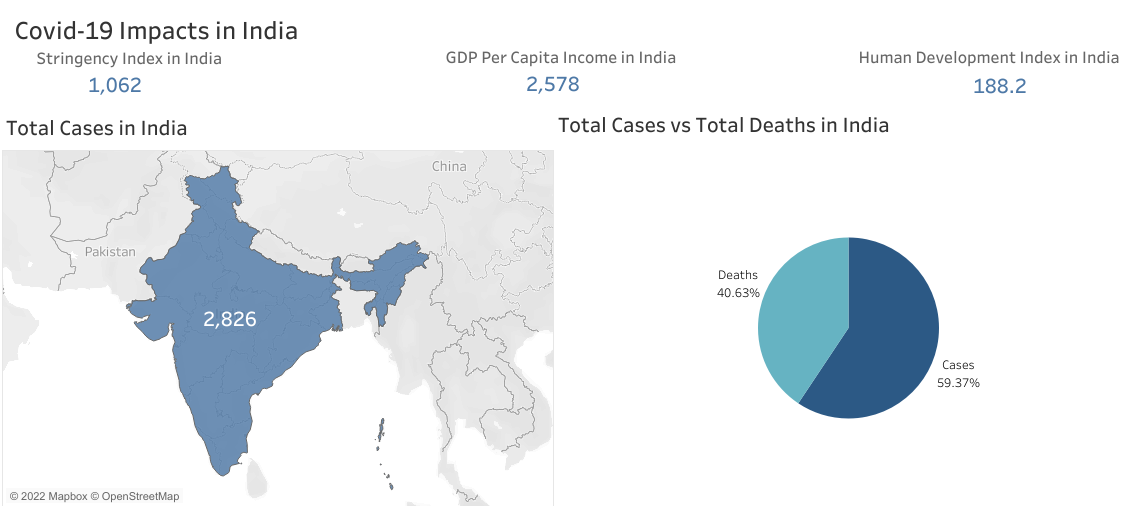

The dashboard page shown, as its layout file describes it:
{"tool":"tableau","page":{"name":"Covid-19 Impacts in India","canvas":[1000,1000],"units":"permille","ordinal":0},"visuals":[{"type":"title","box":[6.9,12.7,986.1,66.5]},{"type":"text","box":[387.4,77.5,211.4,66.5]},{"type":"text","box":[748.7,77.5,242.6,66.5]},{"type":"text","box":[29.5,79.1,182,66.5]},{"type":"worksheet","title":"GDP per Captita Income in India","mark":"Automatic","box":[441.1,136.1,81.5,47.5]},{"type":"worksheet","title":"Stringency Index in India","mark":"Automatic","box":[58.1,137.7,84.9,50.6]},{"type":"worksheet","title":"Human Development Index in India","mark":"Automatic","box":[831.9,139.2,88.4,44.3]},{"type":"worksheet","title":"Total Cases vs Total Deaths in India","mark":"Pie","box":[484.4,189.9,515.6,814.9]},{"type":"worksheet","title":"Total Cases in India","mark":"Multipolygon","box":[1.7,193,482.7,807]}]}

Visuals, with their boxes on the dashboard's canvas, which has no fixed pixel size, in thousandths of its width and height (x1, y1, x2, y2). These are canvas units, not pixel positions in the 1142x506 screenshot, which may show the page scaled, cropped or inside an application window:
title: [7, 13, 993, 79]
text: [387, 78, 599, 144]
text: [749, 78, 991, 144]
text: [30, 79, 212, 146]
"GDP per Captita Income in India" worksheet: [441, 136, 523, 184]
"Stringency Index in India" worksheet: [58, 138, 143, 188]
"Human Development Index in India" worksheet: [832, 139, 920, 184]
"Total Cases vs Total Deaths in India" worksheet (Pie marks): [484, 190, 1000, 1005]
"Total Cases in India" worksheet (Multipolygon marks): [2, 193, 484, 1000]
